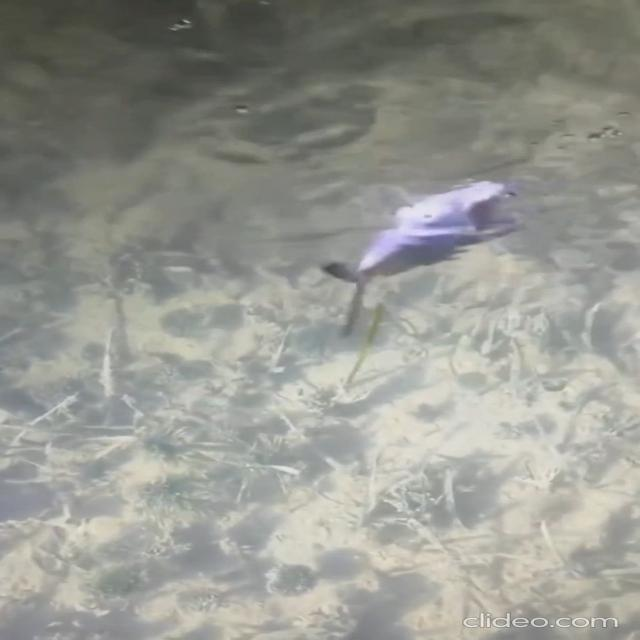fish: (314, 170, 554, 281)
